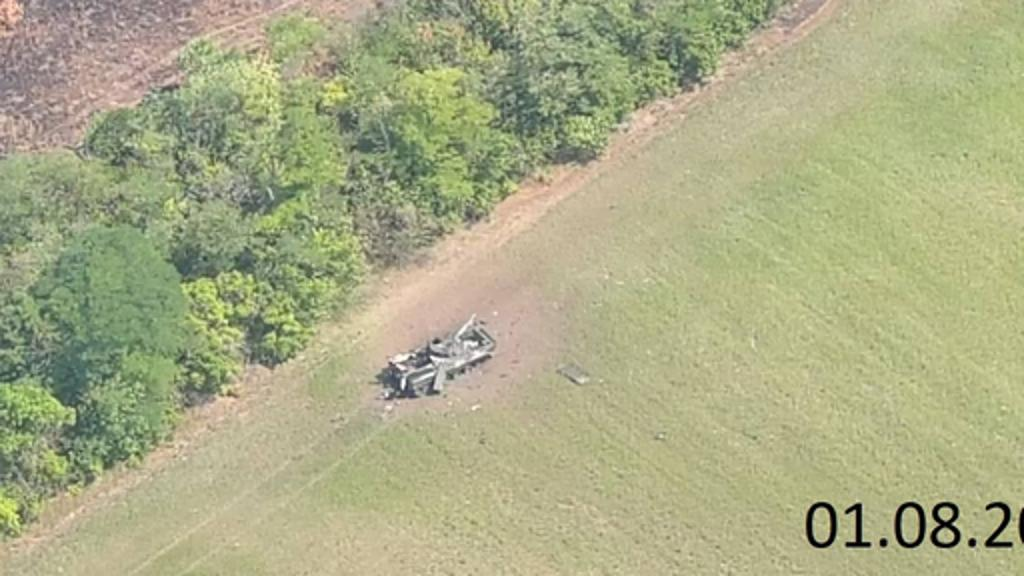APC-IFV: (382, 308, 498, 400)
